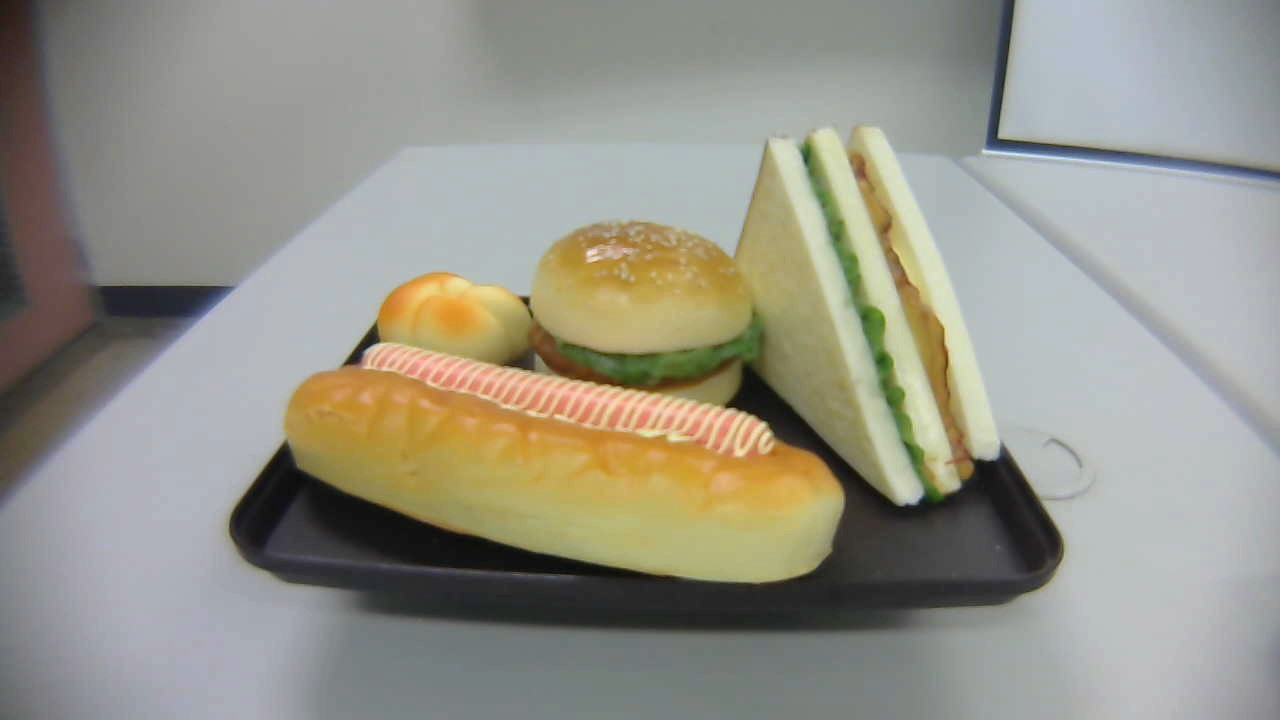hamburger: (526, 217, 759, 416)
hot dog: (284, 341, 845, 582)
sandwich: (725, 123, 1004, 504)
twist bread: (375, 273, 533, 377)
